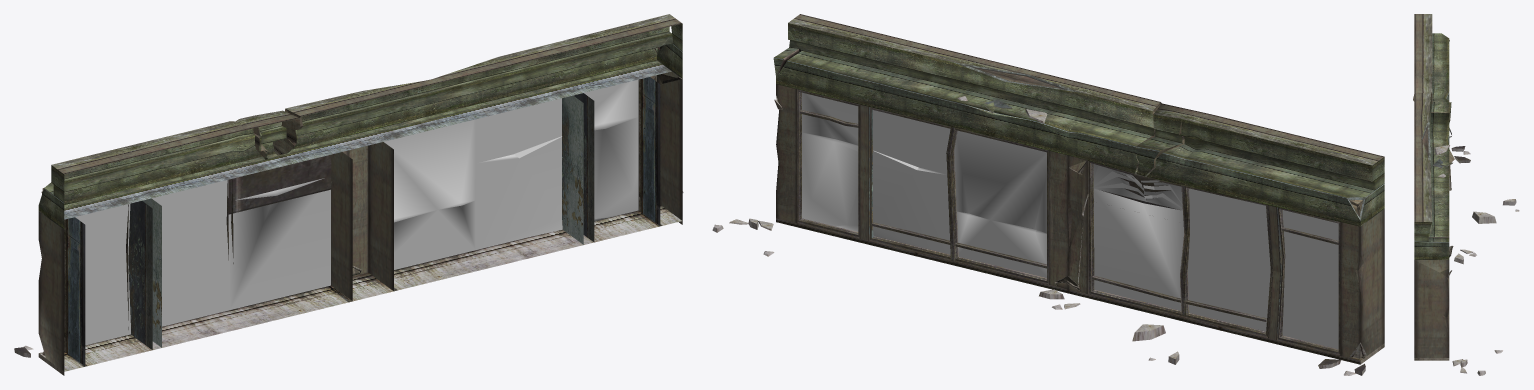
File: Store_front_22.fbx
3 views of the same model, side by side, from view 1: azimuth 30°, elevation 25°; view 2: azimuth 150°, elevation 25°; view 3: azimuth 270°, elevation 25° (orthographic). The views are drawn at different scales.
Visible parts, largest first — view 1: Store_front_22; view 2: Store_front_22; view 3: Store_front_22.
Boxes of the visible parts, box(x1,y1,x2,y2) form: Store_front_22: box(14, 14, 683, 375); Store_front_22: box(712, 14, 1384, 375); Store_front_22: box(1413, 14, 1519, 375).
Size of the model in its own units: 1529 by 438 by 304.
